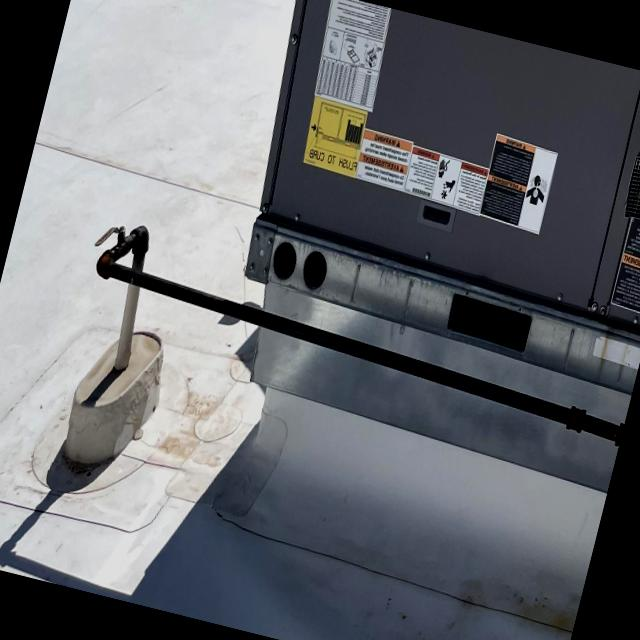RTU: (147, 0, 640, 580)
